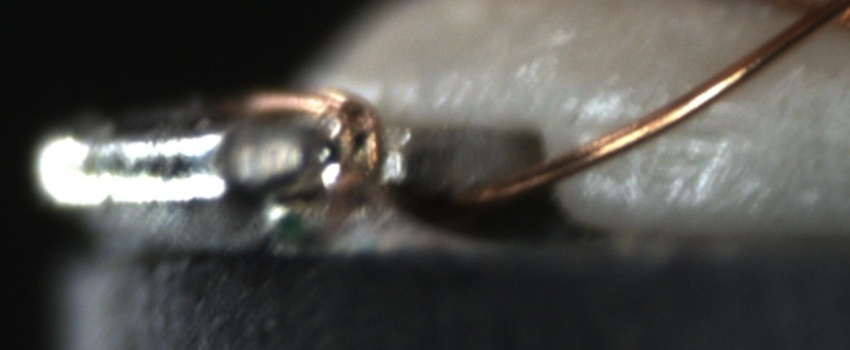DL: (579, 101, 743, 158)
TE: (240, 69, 390, 196)
